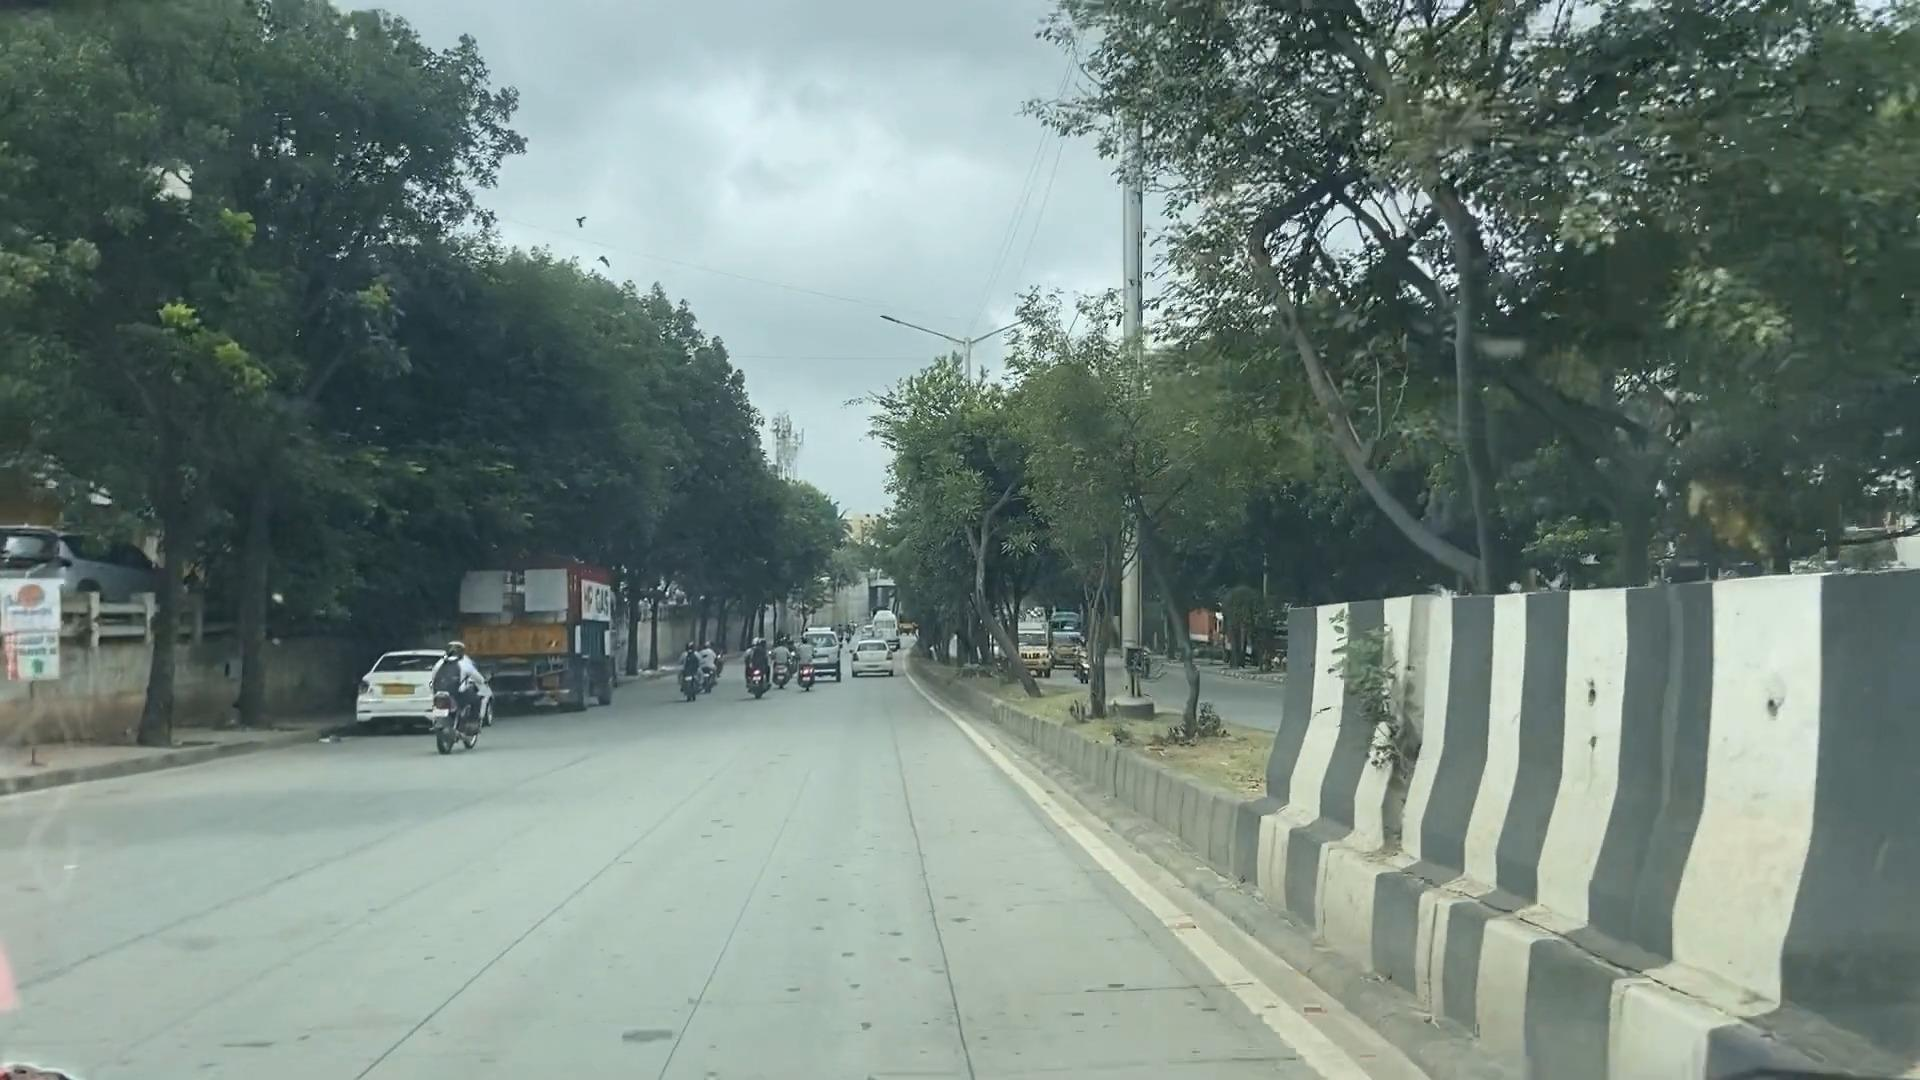RoadDamages: (558, 848, 1247, 1080)
